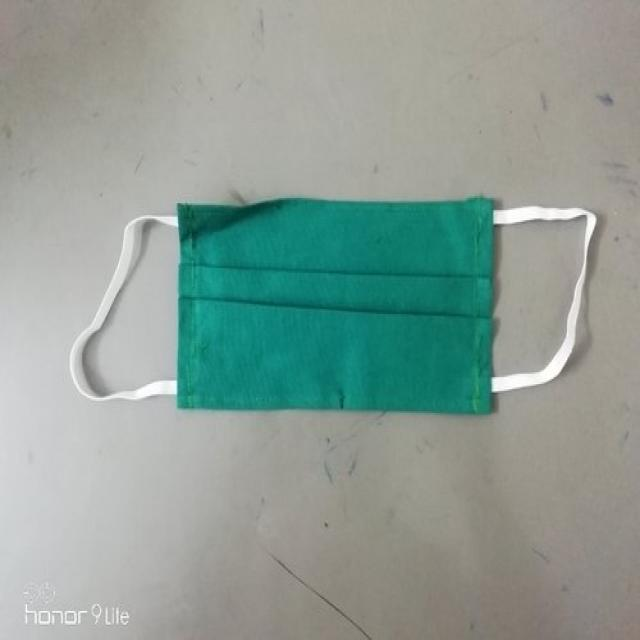non-organic waste: (69, 193, 597, 413)
